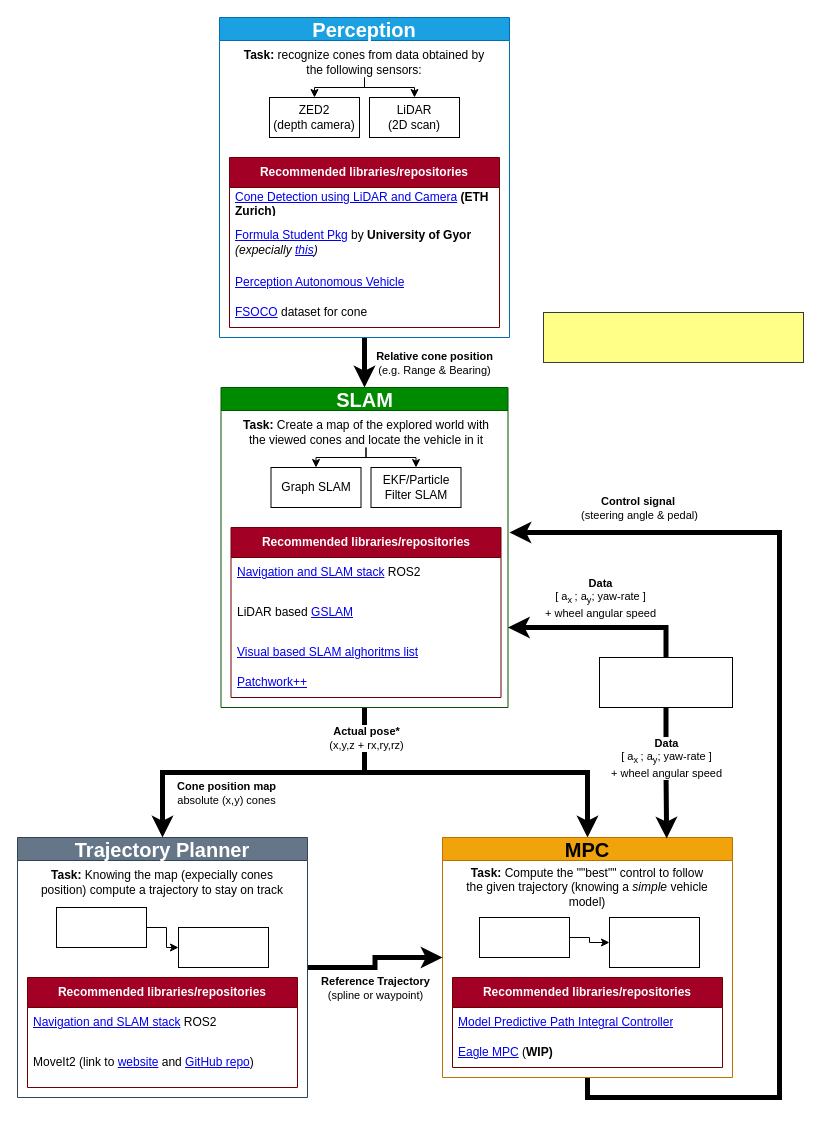
This 821x1125 diagram has some shape labels left out. Here are the shapes that lost their labels. From the top down, the centre of each, then its label:
At (x=673, y=337): "https://automaticaddison.com/the-ultimate-guide-to-the-ros-2-navigation-stack/".
At (x=665, y=682): "Sensors (IMU, tone wheel, ...)".
At (x=101, y=927): "centerline ( now)".
At (x=223, y=947): "Optimal raceline ( future )".
At (x=524, y=937): "Kinematic model ( now )".
At (x=654, y=942): "Single/Double-track with load transfer ( and other automotive engineers stuff )".
